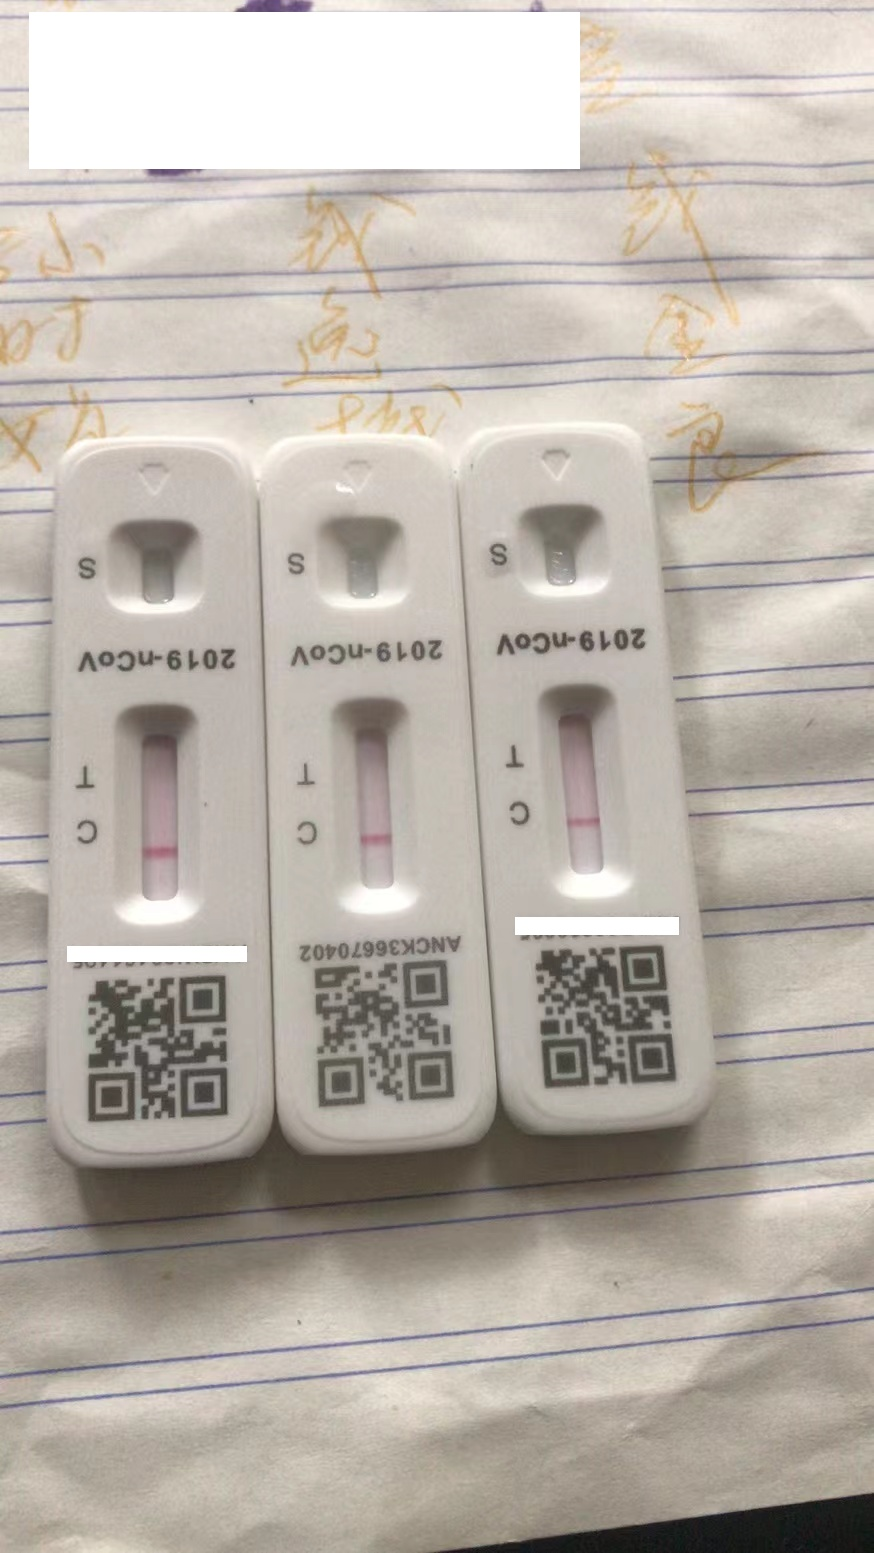negative: (539, 683, 627, 900), (112, 703, 197, 923), (331, 698, 415, 915)
